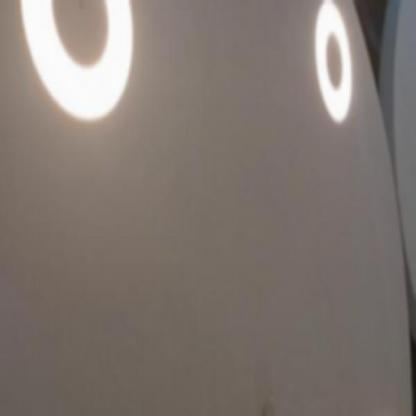light_on: (11, 0, 146, 143), (304, 0, 358, 125), (368, 392, 406, 414)
